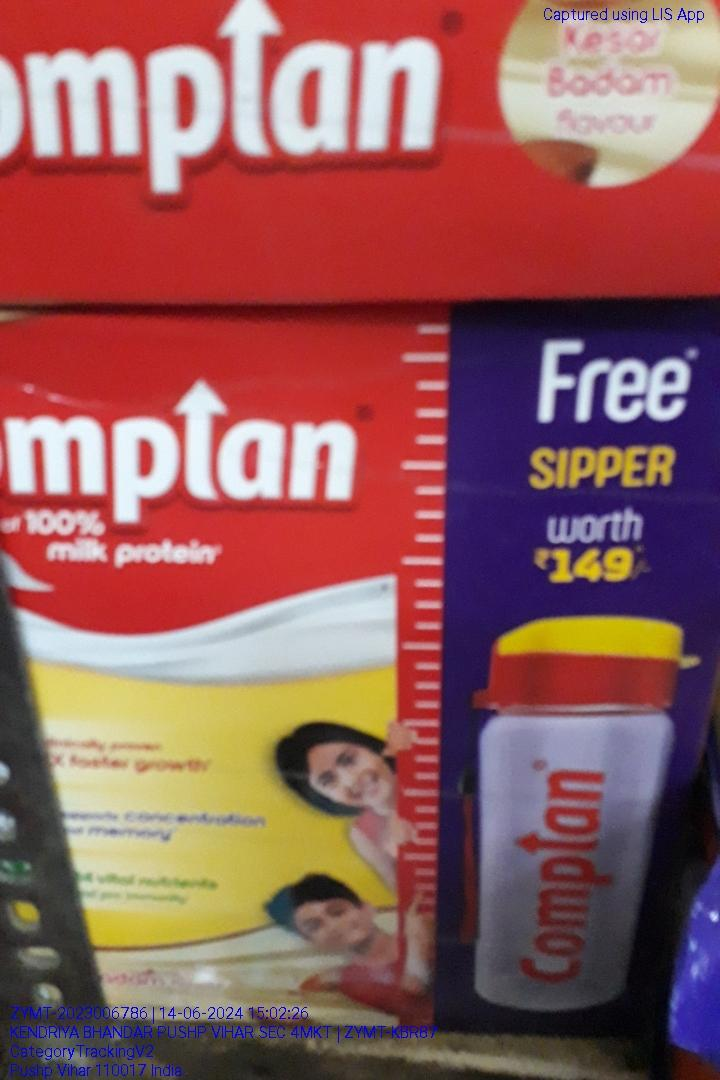COMPLAN_KESAR_BADAM_500_GMS_PACK: (2, 320, 662, 1032)
